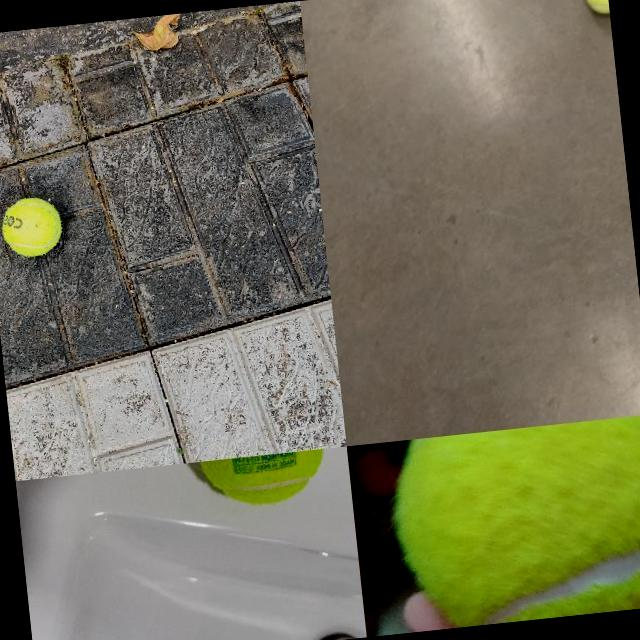Tennis Ball: (390, 414, 640, 631), (197, 448, 331, 512), (0, 192, 65, 259), (581, 0, 609, 15)
